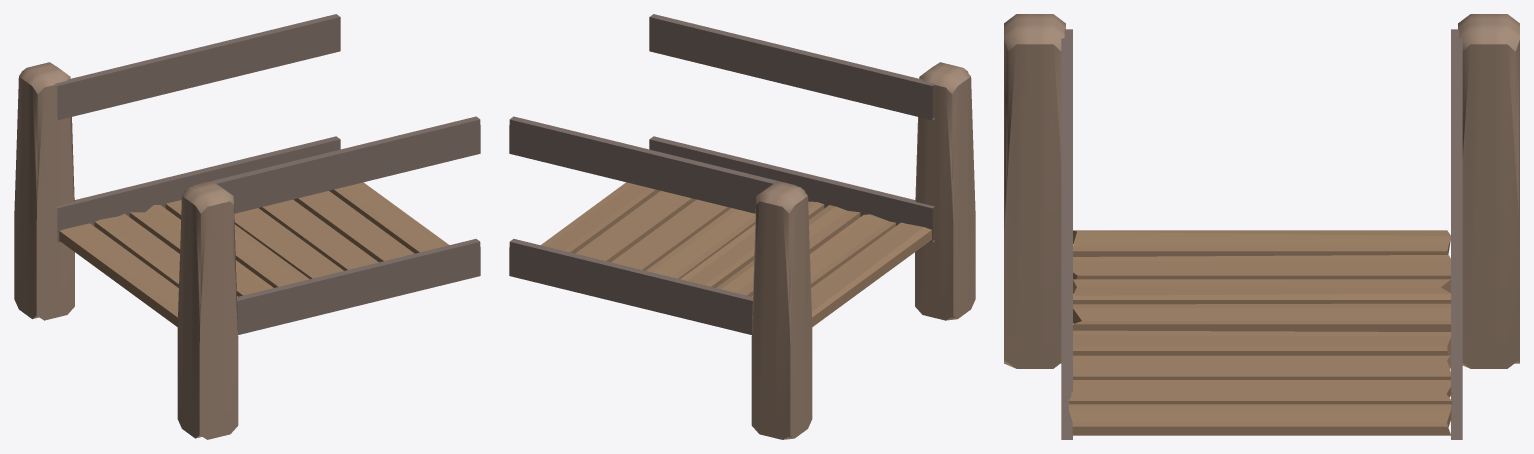
The model's file is bridge 3.fbx.
3 renders of one model, left to right at view 1: azimuth 30°, elevation 25°; view 2: azimuth 150°, elevation 25°; view 3: azimuth 270°, elevation 25°, orthographic. The views are drawn at different scales.
Visible parts, largest first — view 1: node_id104, node_id106, node_id102; view 2: node_id104, node_id106, node_id102; view 3: node_id102, node_id106, node_id104.
Part boxes in pixels (x1=…): node_id104: x1=55, y1=14, x2=480, y2=334; node_id106: x1=14, y1=62, x2=238, y2=439; node_id102: x1=59, y1=182, x2=449, y2=326; node_id104: x1=509, y1=14, x2=934, y2=334; node_id106: x1=751, y1=62, x2=975, y2=439; node_id102: x1=541, y1=182, x2=931, y2=326; node_id102: x1=1068, y1=230, x2=1451, y2=435; node_id106: x1=1004, y1=14, x2=1519, y2=368; node_id104: x1=1061, y1=29, x2=1462, y2=439.
Bounding box in the file's own units: 0.0276 × 0.021 × 0.0294.
